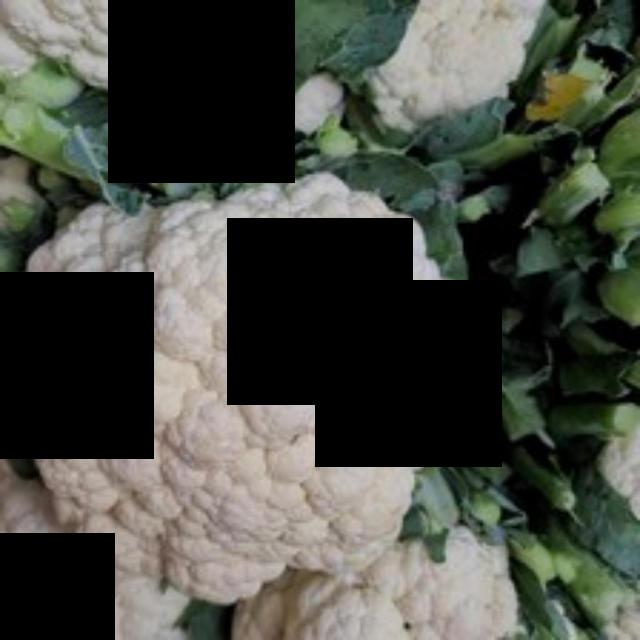cauliflower: (0, 173, 502, 622)
